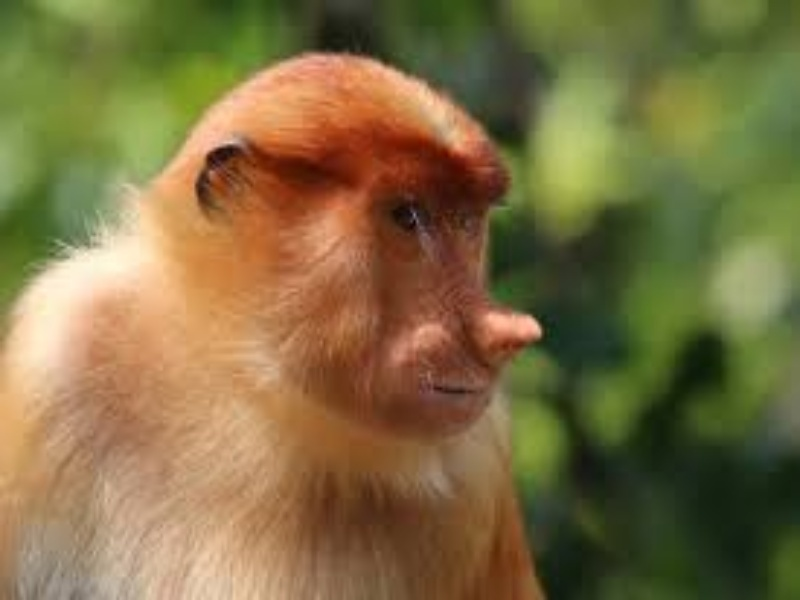monkey: (6, 47, 556, 600)
